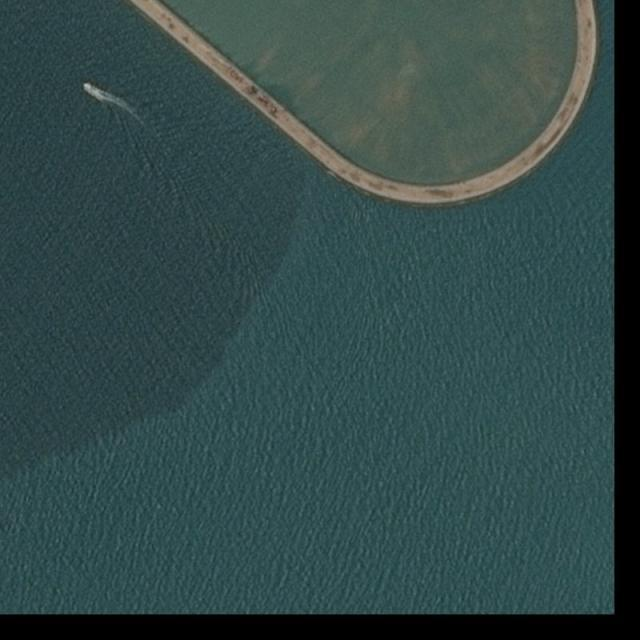ship: (82, 84, 91, 92)
